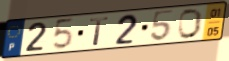2: (111, 12, 141, 48), (23, 21, 49, 54)
5: (51, 16, 78, 52), (149, 8, 176, 43)
O: (177, 7, 205, 40)
T: (89, 16, 111, 47)
